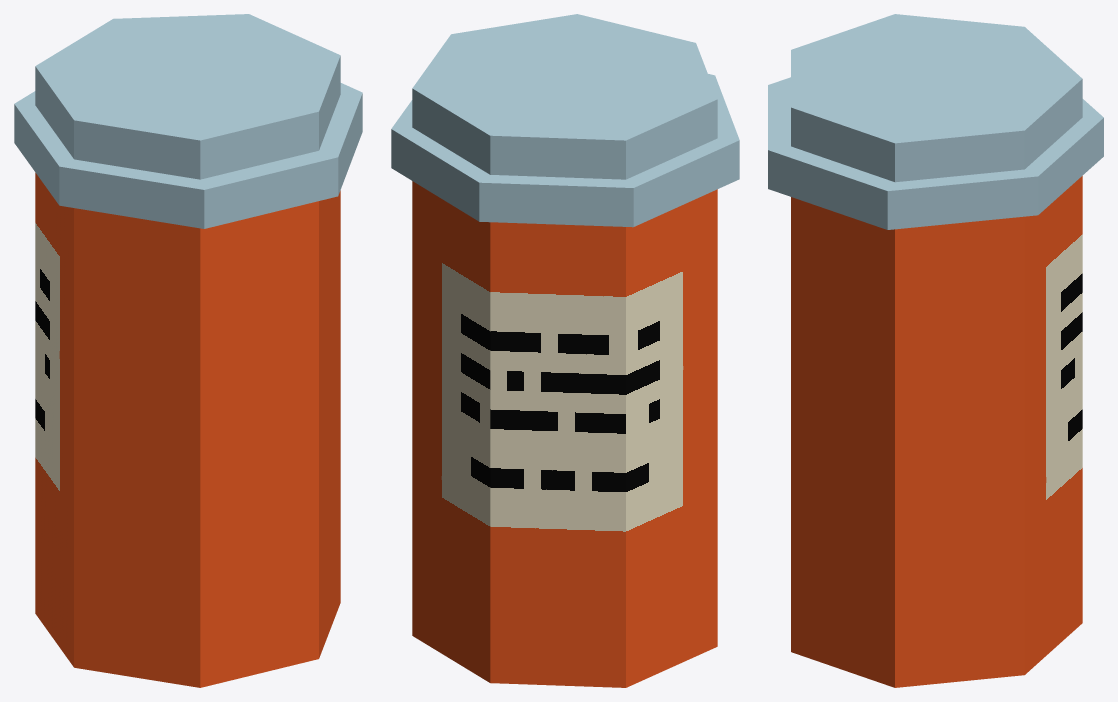
Rendered from Pills.gltf.
3 renders of one model, left to right at view 1: azimuth 30°, elevation 25°; view 2: azimuth 150°, elevation 25°; view 3: azimuth 270°, elevation 25°, orthographic.
Visible parts, largest first — view 1: PILLS HERE!; view 2: PILLS HERE!; view 3: PILLS HERE!.
Part boxes in pixels (box(x1,y1,x2,y2)): PILLS HERE!: box(14, 14, 362, 687); PILLS HERE!: box(391, 14, 739, 687); PILLS HERE!: box(768, 14, 1103, 687).
Size of the model in its own units: 0.0254 by 0.0437 by 0.0245.
Materials: 1 (1 with a texture image).
